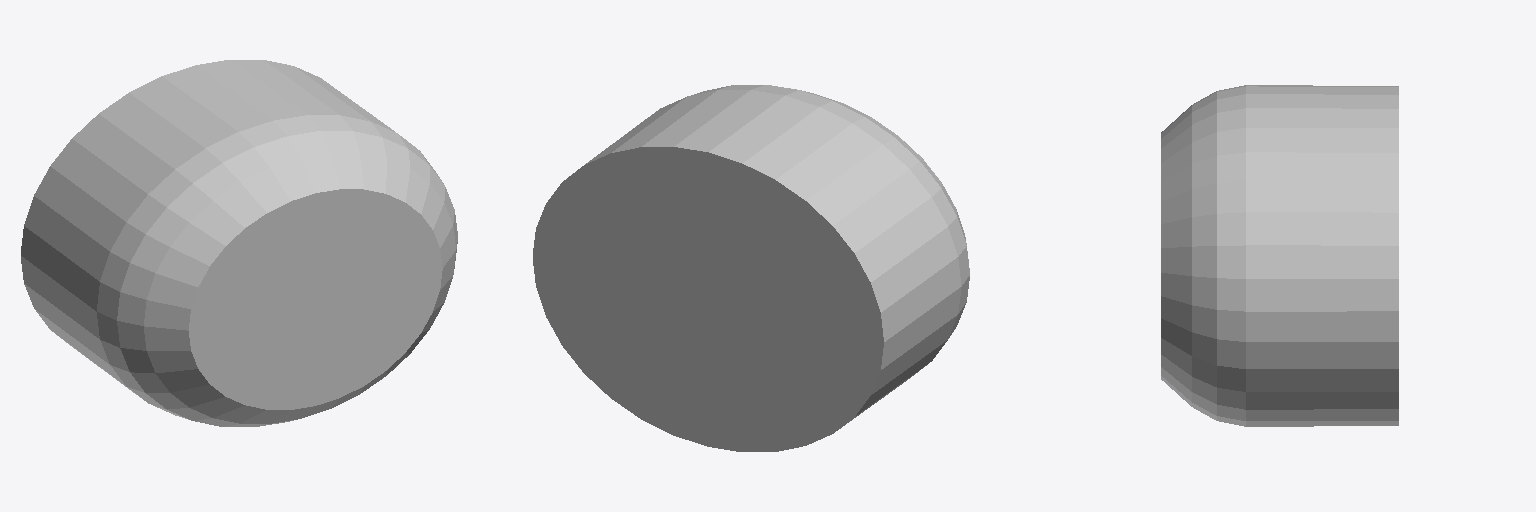
File: sword2_Cylinder_008.obj
3 views of the same model, side by side, from view 1: azimuth 30°, elevation 25°; view 2: azimuth 150°, elevation 25°; view 3: azimuth 270°, elevation 25° (orthographic).
Visible parts, largest first — view 1: Cylinder.008; view 2: Cylinder.008; view 3: Cylinder.008.
Part boxes in pixels (bbox=[...]): Cylinder.008: bbox=[21, 60, 457, 426]; Cylinder.008: bbox=[533, 85, 969, 451]; Cylinder.008: bbox=[1161, 85, 1398, 426].
Size of the model in its own units: 0.4559 by 0.3649 by 0.2669.